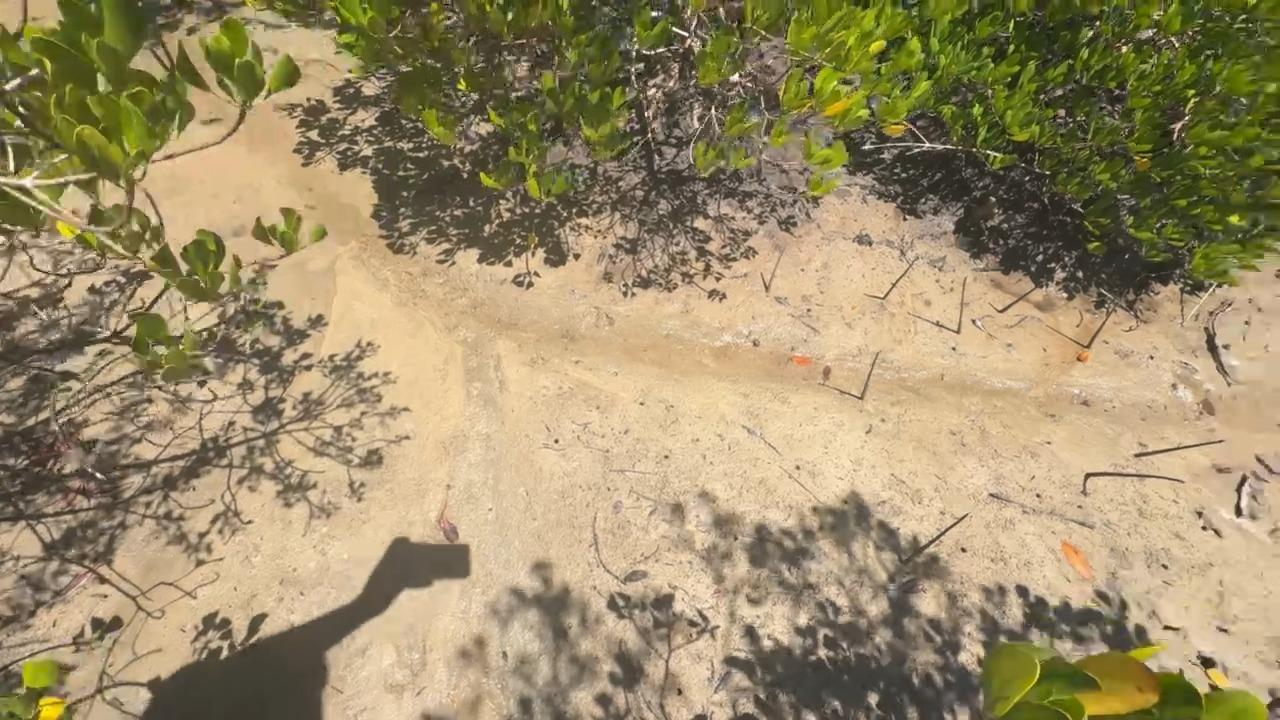Tree: (899, 512, 972, 566), (1085, 288, 1128, 349), (1134, 440, 1225, 459), (1180, 282, 1219, 326), (998, 281, 1047, 314), (881, 258, 918, 300), (1085, 472, 1187, 484), (860, 351, 880, 401), (765, 248, 785, 295), (956, 275, 969, 334)
